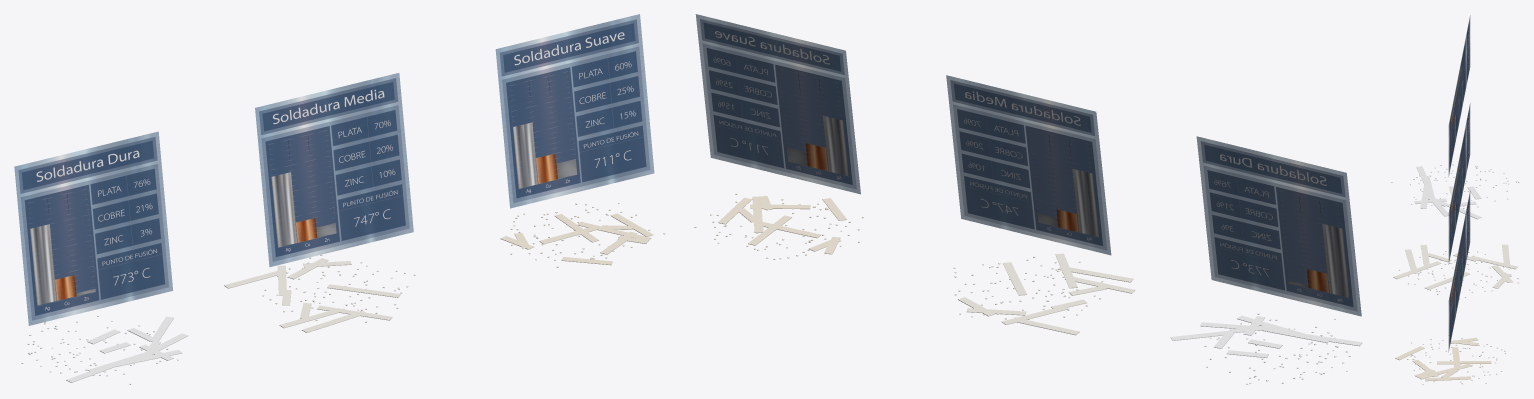
The model's file is soldaduras.glb.
The picture shows the model from 3 angles, left to right: view 1: azimuth 30°, elevation 25°; view 2: azimuth 150°, elevation 25°; view 3: azimuth 270°, elevation 25°; orthographic projection. The views are drawn at different scales.
Parts seen in each view (by area): view 1: Plane, Plane.001, Plane.002; view 2: Plane, Plane.002, Plane.001; view 3: Plane, Plane.002, Plane.001, media_Placa_7, suave_Placa_5, media_Placa_1, suave_Placa_8, suave_Placa_1, dura_Placa_9, media_Placa_2, dura_Placa_3, media_Placa_0 (+6 smaller).
Boxes of the visible parts, x1,y1,x2,y2 form: Plane: (14, 131, 172, 325); Plane.001: (255, 73, 413, 266); Plane.002: (495, 14, 654, 208); Plane: (1196, 136, 1361, 316); Plane.002: (695, 14, 860, 194); Plane.001: (946, 75, 1111, 255); Plane: (1448, 15, 1470, 176); Plane.002: (1448, 191, 1470, 351); Plane.001: (1448, 103, 1470, 264); media_Placa_7: (1393, 261, 1441, 279); suave_Placa_5: (1418, 363, 1471, 379); media_Placa_1: (1470, 256, 1517, 269); suave_Placa_8: (1424, 376, 1471, 381); suave_Placa_1: (1437, 361, 1491, 364); dura_Placa_9: (1425, 193, 1449, 216); media_Placa_2: (1405, 249, 1417, 273); dura_Placa_3: (1416, 166, 1431, 187); media_Placa_0: (1502, 244, 1510, 265).
Size of the model in its own units: 0.65 by 0.1936 by 0.1549.
6 materials, 3 textured.
